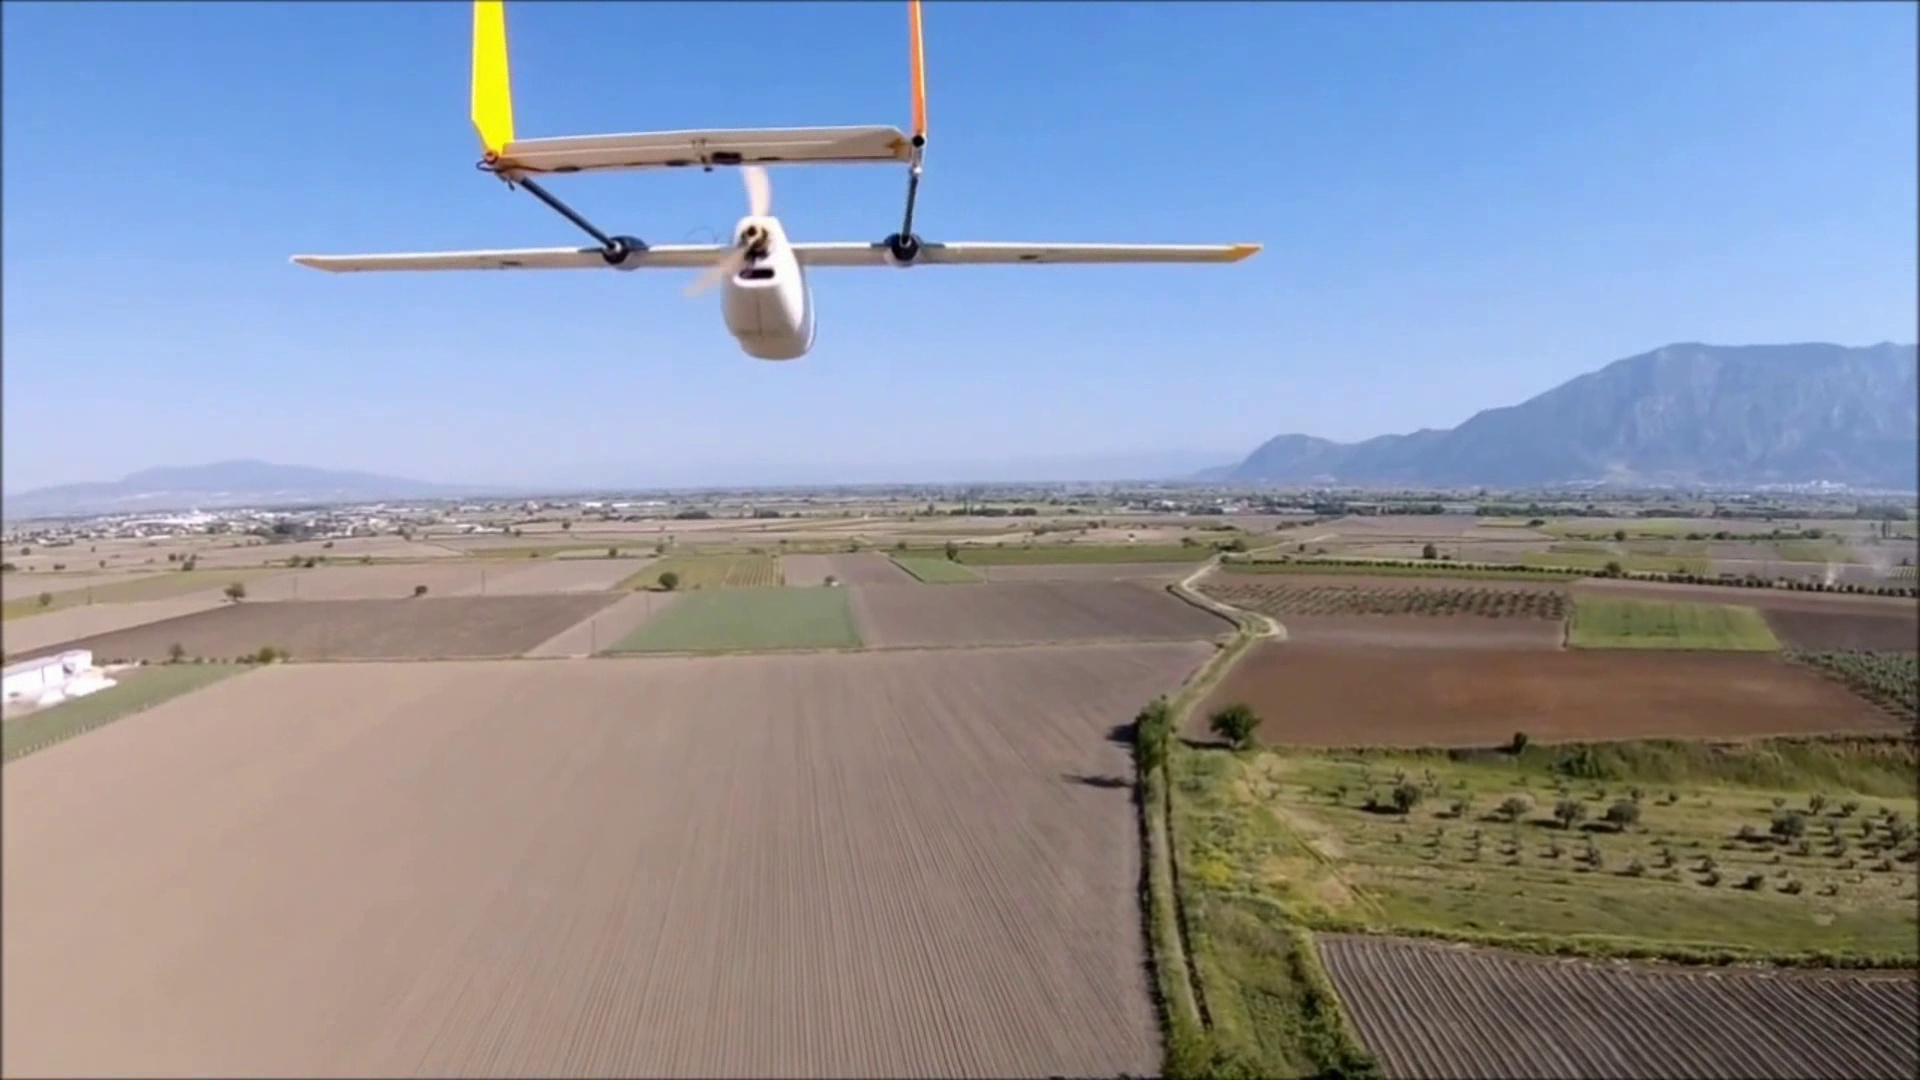airplane: (293, 5, 1257, 360)
